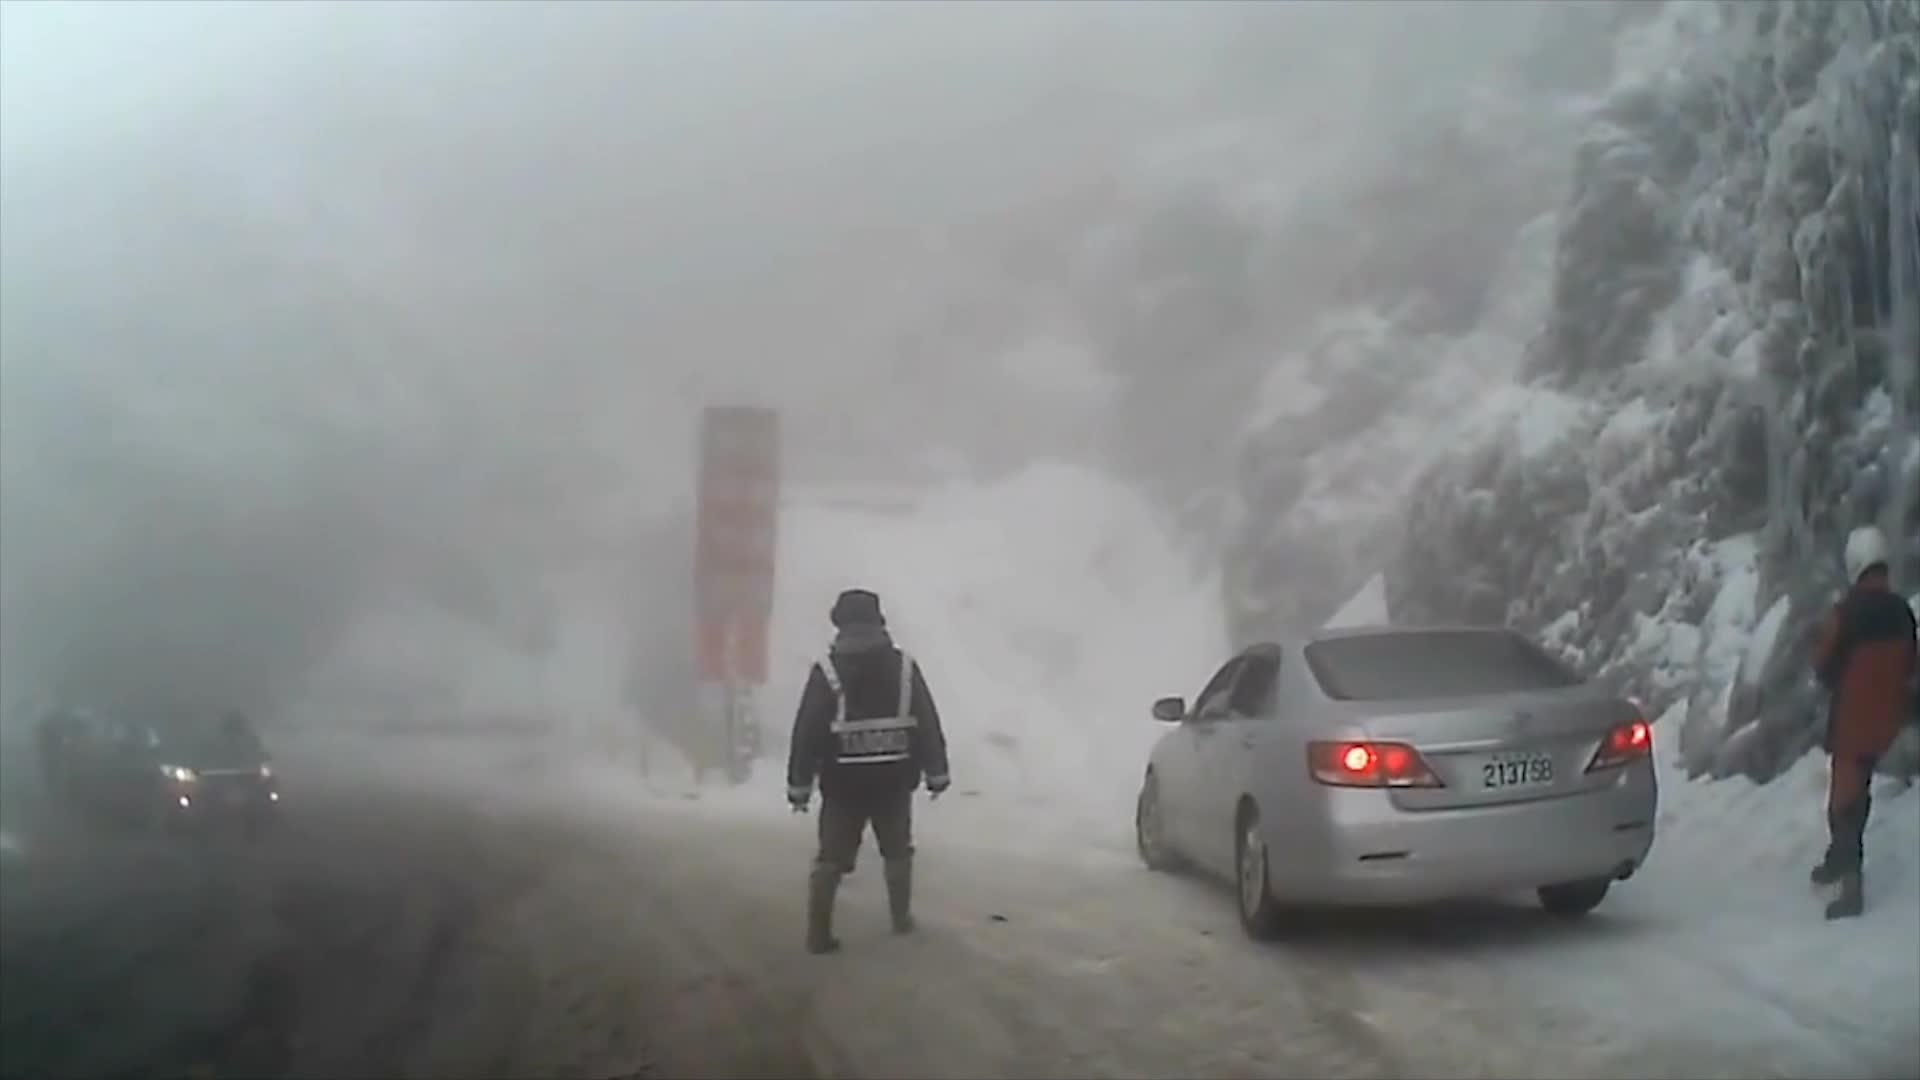pedestrian: (789, 589, 944, 955), (1806, 526, 1920, 921)
vehicle: (1132, 624, 1658, 941), (53, 698, 277, 830)
